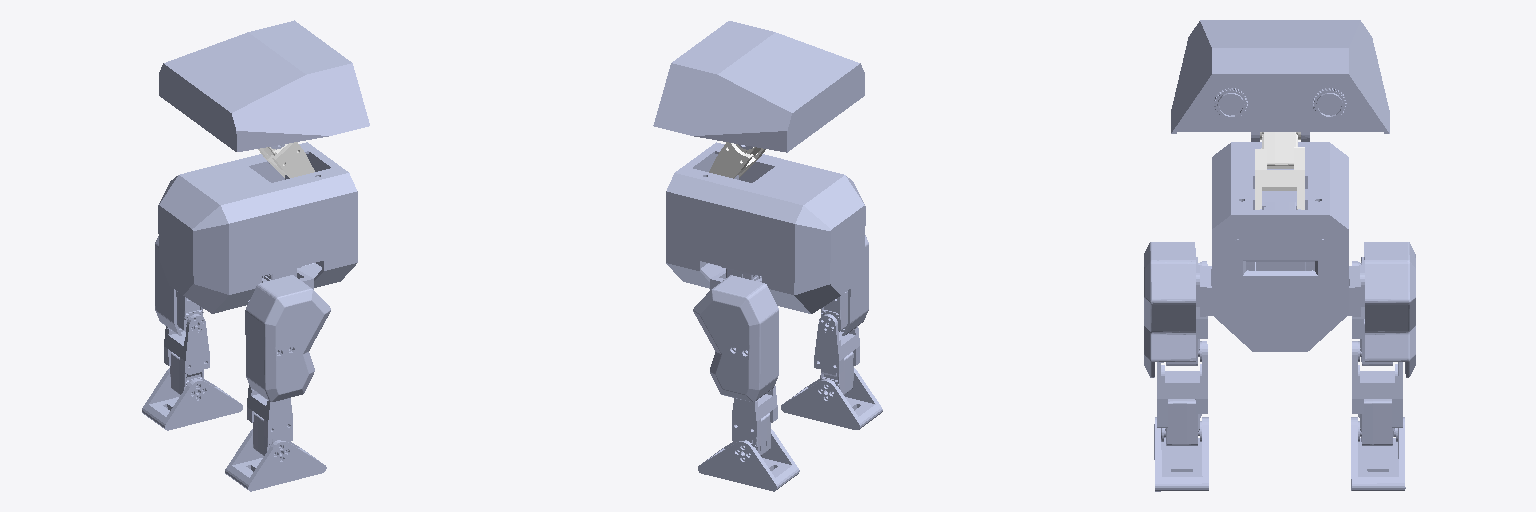
URDF robot description (full_assembly_v2):
<?xml version="1.0" encoding="utf-8"?>
<!-- This URDF was automatically created by SolidWorks to URDF Exporter! Originally created by Stephen Brawner (brawner@gmail.com) 
     Commit Version: 1.6.0-4-g7f85cfe  Build Version: 1.6.7995.38578
     For more information, please see http://wiki.ros.org/sw_urdf_exporter -->
<robot
  name="full_assembly_v2">
  <mujoco>
    <compiler balanceinertia="true" discardvisual="false" fusestatic="true"/>
  </mujoco>
  <link
    name="trunk">
    <inertial>
      <origin
        xyz="0.011456 2.2834E-05 0.0078002"
        rpy="0 0 0" />
      <mass
        value="0.65713" />
      <inertia
        ixx="0.0013735"
        ixy="-9.3006E-08"
        ixz="3.8844E-06"
        iyy="0.0013894"
        iyz="-3.9976E-07"
        izz="0.0012342" />
    </inertial>
    <visual>
      <origin
        xyz="0 0 0"
        rpy="0 0 0" />
      <geometry>
        <mesh
          filename="meshes/base_link.STL" />
      </geometry>
      <material
        name="">
        <color
          rgba="0.79216 0.81961 0.93333 1" />
      </material>
    </visual>
    <collision>
      <origin
        xyz="0 0 0"
        rpy="0 0 0" />
      <geometry>
        <mesh
          filename="meshes/base_link.STL" />
      </geometry>
    </collision>
  </link>
  <link
    name="pelvis_L">
    <inertial>
      <origin
        xyz="-0.00051582 -0.021984 -0.00011852"
        rpy="0 0 0" />
      <mass
        value="0.053919" />
      <inertia
        ixx="9.4017E-06"
        ixy="-7.6769E-09"
        ixz="-6.5375E-09"
        iyy="5.8201E-06"
        iyz="-8.8578E-10"
        izz="8.6409E-06" />
    </inertial>
    <visual>
      <origin
        xyz="0 0 0"
        rpy="0 0 0" />
      <geometry>
        <mesh
          filename="meshes/pelvis_L.STL" />
      </geometry>
      <material
        name="">
        <color
          rgba="0.79216 0.81961 0.93333 1" />
      </material>
    </visual>
    <collision>
      <origin
        xyz="0 0 0"
        rpy="0 0 0" />
      <geometry>
        <mesh
          filename="meshes/pelvis_L.STL" />
      </geometry>
    </collision>
  </link>
  <joint
    name="joint1_pelvis_L"
    type="revolute">
    <origin
      xyz="0.010165 0.039494 -0.0062436"
      rpy="1.5709 0.0087263 -3.1329" />
    <parent
      link="trunk" />
    <child
      link="pelvis_L" />
    <axis
      xyz="0 1 0" />
    <limit
      lower="-1.57"
      upper="1.57"
      effort="100"
      velocity="100" />
  </joint>
  <link
    name="hip_L">
    <inertial>
      <origin
        xyz="0.0163927399698213 -0.000174392336910641 0.0429518546966259"
        rpy="0 0 0" />
      <mass
        value="0.0761461036772166" />
      <inertia
        ixx="1.79303618869339E-05"
        ixy="-1.30271971753041E-08"
        ixz="-2.17162814947989E-06"
        iyy="2.5979426874622E-05"
        iyz="1.19431151571543E-07"
        izz="1.70542740015958E-05" />
    </inertial>
    <visual>
      <origin
        xyz="0 0 0"
        rpy="0 0 0" />
      <geometry>
        <mesh
          filename="meshes/hip_L.STL" />
      </geometry>
      <material
        name="">
        <color
          rgba="0.792156862745098 0.819607843137255 0.933333333333333 1" />
      </material>
    </visual>
    <collision>
      <origin
        xyz="0 0 0"
        rpy="0 0 0" />
      <geometry>
        <mesh
          filename="meshes/hip_L.STL" />
      </geometry>
    </collision>
  </link>
  <joint
    name="joint2_hip_L"
    type="revolute">
    <origin
      xyz="0 -0.039892 0"
      rpy="0 0 0" />
    <parent
      link="pelvis_L" />
    <child
      link="hip_L" />
    <axis
      xyz="0.99996 0 -0.0087265" />
    <limit
      lower="-1.57"
      upper="1.57"
      effort="100"
      velocity="100" />
  </joint>
  <link
    name="thigh_L">
    <inertial>
      <origin
        xyz="-0.039582 0.0051337 0.030679"
        rpy="0 0 0" />
      <mass
        value="0.13672" />
      <inertia
        ixx="6.6615E-05"
        ixy="-9.2799E-06"
        ixz="1.9375E-06"
        iyy="5.7016E-05"
        iyz="-8.7509E-08"
        izz="7.8065E-05" />
    </inertial>
    <visual>
      <origin
        xyz="0 0 0"
        rpy="0 0 0" />
      <geometry>
        <mesh
          filename="meshes/thigh_L.STL" />
      </geometry>
      <material
        name="">
        <color
          rgba="0.79216 0.81961 0.93333 1" />
      </material>
    </visual>
    <collision>
      <origin
        xyz="0 0 0"
        rpy="0 0 0" />
      <geometry>
        <mesh
          filename="meshes/thigh_L.STL" />
      </geometry>
    </collision>
  </link>
  <joint
    name="joint3_thigh_L"
    type="revolute">
    <origin
      xyz="0.041492 0 0.026426"
      rpy="0 0 1.5708" />
    <parent
      link="hip_L" />
    <child
      link="thigh_L" />
    <axis
      xyz="0 0 -1" />
    <limit
      lower="-1.57"
      upper="1.57"
      effort="100"
      velocity="100" />
  </joint>
  <link
    name="ankle_L">
    <inertial>
      <origin
        xyz="-0.051215 0.0001649 0.023463"
        rpy="0 0 0" />
      <mass
        value="0.078372" />
      <inertia
        ixx="1.464E-05"
        ixy="2.2709E-07"
        ixz="1.4742E-06"
        iyy="2.3374E-05"
        iyz="-1.273E-07"
        izz="1.755E-05" />
    </inertial>
    <visual>
      <origin
        xyz="0 0 0"
        rpy="0 0 0" />
      <geometry>
        <mesh
          filename="meshes/ankle_L.STL" />
      </geometry>
      <material
        name="">
        <color
          rgba="0.79216 0.81961 0.93333 1" />
      </material>
    </visual>
    <collision>
      <origin
        xyz="0 0 0"
        rpy="0 0 0" />
      <geometry>
        <mesh
          filename="meshes/ankle_L.STL" />
      </geometry>
    </collision>
  </link>
  <joint
    name="joint4_ankle_L"
    type="revolute">
    <origin
      xyz="-0.08 0 0"
      rpy="0 0 0" />
    <parent
      link="thigh_L" />
    <child
      link="ankle_L" />
    <axis
      xyz="0 0 -1" />
    <limit
      lower="-1.57"
      upper="1.57"
      effort="100"
      velocity="100" />
  </joint>
  <link
    name="left_foot">
    <inertial>
      <origin
        xyz="0.00575759314533464 0.0248407158750362 0.0235411402775715"
        rpy="0 0 0" />
      <mass
        value="0.0777097222802102" />
      <inertia
        ixx="2.96195805200131E-05"
        ixy="-1.1005382011947E-06"
        ixz="-1.77474641411088E-08"
        iyy="7.15756259940461E-05"
        iyz="-4.7488555713904E-08"
        izz="5.79961491525299E-05" />
    </inertial>
    <visual>
      <origin
        xyz="0 0 0"
        rpy="0 0 0" />
      <geometry>
        <mesh
          filename="meshes/foot_L.STL" />
      </geometry>
      <material
        name="">
        <color
          rgba="0.792156862745098 0.819607843137255 0.933333333333333 1" />
      </material>
    </visual>
    <collision>
      <origin
        xyz="0 0 0"
        rpy="0 0 0" />
      <geometry>
        <mesh
          filename="meshes/foot_L.STL" />
      </geometry>
    </collision>
  </link>
  <joint
    name="joint5_foot_L"
    type="revolute">
    <origin
      xyz="-0.08 0 0"
      rpy="0 0 1.5708" />
    <parent
      link="ankle_L" />
    <child
      link="left_foot" />
    <axis
      xyz="0 0 -1" />
    <limit
      lower="-1.57"
      upper="1.57"
      effort="100"
      velocity="100" />
  </joint>
  <link
    name="pelvis_R">
    <inertial>
      <origin
        xyz="-0.000513725146185577 -0.0219835311477533 -0.00012164668284867"
        rpy="0 0 0" />
      <mass
        value="0.0539188863508412" />
      <inertia
        ixx="9.40174177868185E-06"
        ixy="-7.65828813517135E-09"
        ixz="5.78340802028493E-09"
        iyy="5.82011195489403E-06"
        iyz="-1.24427447114031E-09"
        izz="8.64086674676144E-06" />
    </inertial>
    <visual>
      <origin
        xyz="0 0 0"
        rpy="0 0 0" />
      <geometry>
        <mesh
          filename="meshes/pelvis_R.STL" />
      </geometry>
      <material
        name="">
        <color
          rgba="0.792156862745098 0.819607843137255 0.933333333333333 1" />
      </material>
    </visual>
    <collision>
      <origin
        xyz="0 0 0"
        rpy="0 0 0" />
      <geometry>
        <mesh
          filename="meshes/pelvis_R.STL" />
      </geometry>
    </collision>
  </link>
  <joint
    name="joint6_pelvis_R"
    type="revolute">
    <origin
      xyz="0.0094731 -0.039779 -0.0062496"
      rpy="1.5709 0.0087263 -3.1329" />
    <parent
      link="trunk" />
    <child
      link="pelvis_R" />
    <axis
      xyz="0 1 0" />
    <limit
      lower="-1.57"
      upper="1.57"
      effort="100"
      velocity="100" />
  </joint>
  <link
    name="hip_R">
    <inertial>
      <origin
        xyz="0.0163927363148579 -4.32063890797724E-06 -0.0429518549876043"
        rpy="0 0 0" />
      <mass
        value="0.0761461119364861" />
      <inertia
        ixx="1.79303673794197E-05"
        ixy="-1.51537324429809E-08"
        ixz="2.17162593139543E-06"
        iyy="2.5979426702273E-05"
        iyz="-1.18672358329129E-07"
        izz="1.70542754446113E-05" />
    </inertial>
    <visual>
      <origin
        xyz="0 0 0"
        rpy="0 0 0" />
      <geometry>
        <mesh
          filename="meshes/hip_R.STL" />
      </geometry>
      <material
        name="">
        <color
          rgba="0.792156862745098 0.819607843137255 0.933333333333333 1" />
      </material>
    </visual>
    <collision>
      <origin
        xyz="0 0 0"
        rpy="0 0 0" />
      <geometry>
        <mesh
          filename="meshes/hip_R.STL" />
      </geometry>
    </collision>
  </link>
  <joint
    name="joint7_hip_R"
    type="revolute">
    <origin
      xyz="0 -0.039892 0"
      rpy="0 0 0" />
    <parent
      link="pelvis_R" />
    <child
      link="hip_R" />
    <axis
      xyz="0.99996 0 0.0087265" />
    <limit
      lower="-1.57"
      upper="1.57"
      effort="100"
      velocity="100" />
  </joint>
  <link
    name="thigh_R">
    <inertial>
      <origin
        xyz="-0.00503057540581958 -0.0395824759860945 -0.0306785081430185"
        rpy="0 0 0" />
      <mass
        value="0.136722260919114" />
      <inertia
        ixx="5.70155594467738E-05"
        ixy="9.28204907466827E-06"
        ixz="-8.67564836835474E-08"
        iyy="6.66154112931462E-05"
        iyz="-1.93749776113662E-06"
        izz="7.80651317207028E-05" />
    </inertial>
    <visual>
      <origin
        xyz="0 0 0"
        rpy="0 0 0" />
      <geometry>
        <mesh
          filename="meshes/thigh_R.STL" />
      </geometry>
      <material
        name="">
        <color
          rgba="0.792156862745098 0.819607843137255 0.933333333333333 1" />
      </material>
    </visual>
    <collision>
      <origin
        xyz="0 0 0"
        rpy="0 0 0" />
      <geometry>
        <mesh
          filename="meshes/thigh_R.STL" />
      </geometry>
    </collision>
  </link>
  <joint
    name="joint8_thigh_R"
    type="revolute">
    <origin
      xyz="0.041492 0 -0.026426"
      rpy="0 0 0" />
    <parent
      link="hip_R" />
    <child
      link="thigh_R" />
    <axis
      xyz="0 0 1" />
    <limit
      lower="-1.57"
      upper="1.57"
      effort="100"
      velocity="100" />
  </joint>
  <link
    name="ankle_R">
    <inertial>
      <origin
        xyz="-0.0481279468592293 -0.0175117923902426 -0.0234633981494803"
        rpy="0 0 0" />
      <mass
        value="0.0783721207299688" />
      <inertia
        ixx="1.55160733772599E-05"
        ixy="-2.63405090607131E-06"
        ixz="-1.42859357986916E-06"
        iyy="2.24971607501335E-05"
        iyz="-3.85133412301832E-07"
        izz="1.75499317134926E-05" />
    </inertial>
    <visual>
      <origin
        xyz="0 0 0"
        rpy="0 0 0" />
      <geometry>
        <mesh
          filename="meshes/ankle_R.STL" />
      </geometry>
      <material
        name="">
        <color
          rgba="0.792156862745098 0.819607843137255 0.933333333333333 1" />
      </material>
    </visual>
    <collision>
      <origin
        xyz="0 0 0"
        rpy="0 0 0" />
      <geometry>
        <mesh
          filename="meshes/ankle_R.STL" />
      </geometry>
    </collision>
  </link>
  <joint
    name="joint9_ankle_R"
    type="revolute">
    <origin
      xyz="0 -0.08 0"
      rpy="0 0 1.2218" />
    <parent
      link="thigh_R" />
    <child
      link="ankle_R" />
    <axis
      xyz="0 0 1" />
    <limit
      lower="-1.57"
      upper="1.57"
      effort="100"
      velocity="100" />
  </joint>
  <link
    name="right_foot">
    <inertial>
      <origin
        xyz="0.00575759314533462 0.0248407158750362 -0.0235812551843606"
        rpy="0 0 0" />
      <mass
        value="0.0777097222802102" />
      <inertia
        ixx="2.9619580520013E-05"
        ixy="-1.10053820119469E-06"
        ixz="-1.77474641411644E-08"
        iyy="7.1575625994046E-05"
        iyz="-4.7488555713912E-08"
        izz="5.79961491525299E-05" />
    </inertial>
    <visual>
      <origin
        xyz="0 0 0"
        rpy="0 0 0" />
      <geometry>
        <mesh
          filename="meshes/foot_R.STL" />
      </geometry>
      <material
        name="">
        <color
          rgba="0.792156862745098 0.819607843137255 0.933333333333333 1" />
      </material>
    </visual>
    <collision>
      <origin
        xyz="0 0 0"
        rpy="0 0 0" />
      <geometry>
        <mesh
          filename="meshes/foot_R.STL" />
      </geometry>
    </collision>
  </link>
  <joint
    name="joint10_foot_R"
    type="revolute">
    <origin
      xyz="-0.075175 -0.027362 0"
      rpy="0 0 1.9198" />
    <parent
      link="ankle_R" />
    <child
      link="right_foot" />
    <axis
      xyz="0 0 1" />
    <limit
      lower="-1.57"
      upper="1.57"
      effort="100"
      velocity="100" />
  </joint>
  <link
    name="neck">
    <inertial>
      <origin
        xyz="0 0 0"
        rpy="0 0 0" />
      <mass
        value="0" />
      <inertia
        ixx="0"
        ixy="0"
        ixz="0"
        iyy="0"
        iyz="0"
        izz="0" />
    </inertial>
    <visual>
      <origin
        xyz="0 0 0"
        rpy="0 0 0" />
      <geometry>
        <mesh
          filename="meshes/neck.STL" />
      </geometry>
      <material
        name="">
        <color
          rgba="1 1 1 1" />
      </material>
    </visual>
    <collision>
      <origin
        xyz="0 0 0"
        rpy="0 0 0" />
      <geometry>
        <mesh
          filename="meshes/neck.STL" />
      </geometry>
    </collision>
  </link>
  <joint
    name="joint11_neck"
    type="fixed">
    <origin
      xyz="0.060903 0 0.052819"
      rpy="1.5682 0.28791 3.1325" />
    <parent
      link="trunk" />
    <child
      link="neck" />
    <axis
      xyz="0.0087265 0 0.99996" />
    <limit
      lower="0"
      upper="0"
      effort="0"
      velocity="0" />
  </joint>
  <link
    name="head">
    <inertial>
      <origin
        xyz="0.00466401927795566 0.0533829385889307 -4.07022796095474E-05"
        rpy="0 0 0" />
      <mass
        value="1.36622143003977" />
      <inertia
        ixx="0.00352706153202255"
        ixy="0.000126023204305323"
        ixz="-5.56806778660587E-06"
        iyy="0.00567911515594764"
        iyz="-1.09978784254137E-06"
        izz="0.0028890727523189" />
    </inertial>
    <visual>
      <origin
        xyz="0 0 0"
        rpy="0 0 0" />
      <geometry>
        <mesh
          filename="meshes/head.STL" />
      </geometry>
      <material
        name="">
        <color
          rgba="0.792156862745098 0.819607843137255 0.933333333333333 1" />
      </material>
    </visual>
    <collision>
      <origin
        xyz="0 0 0"
        rpy="0 0 0" />
      <geometry>
        <mesh
          filename="meshes/head.STL" />
      </geometry>
    </collision>
  </link>
  <joint
    name="joint12_head"
    type="fixed">
    <origin
      xyz="0.022822 0.076675 -0.00019917"
      rpy="0.0024049 -0.0003379 0.27918" />
    <parent
      link="neck" />
    <child
      link="head" />
    <axis
      xyz="0.0087265 0 0.99996" />
    <limit
      lower="0"
      upper="0"
      effort="0"
      velocity="0" />
  </joint>
</robot>

--- Facts derived from the render (not from the file) ---
Views: 3 orthographic renders of the robot side by side, from view 1: azimuth 30°, elevation 25°; view 2: azimuth 150°, elevation 25°; view 3: azimuth 270°, elevation 25°.
Model full_assembly_v2 with 13 links and 12 joints (10 revolute, 2 fixed), rooted at trunk, posed every joint at zero.
Links seen in each view (by area): view 1: trunk, head, thigh_R, left_foot, right_foot, ankle_L, ankle_R, thigh_L, neck; view 2: trunk, head, thigh_L, right_foot, left_foot, ankle_R, ankle_L, thigh_R, neck; view 3: trunk, head, thigh_R, thigh_L, ankle_R, ankle_L, neck, right_foot, left_foot, hip_L, hip_R.
Link boxes in pixels (x1,y1,x2,y2): trunk: (158,142,357,313); head: (159,20,369,151); thigh_R: (245,275,330,401); left_foot: (142,368,242,430); right_foot: (225,429,326,491); ankle_L: (164,314,209,394); ankle_R: (247,385,292,455); thigh_L: (155,236,203,335); neck: (258,142,314,177); trunk: (666,142,865,313); head: (653,21,864,152); thigh_L: (693,275,778,401); right_foot: (781,368,882,429); left_foot: (698,429,799,491); ankle_R: (814,314,859,394); ankle_L: (732,386,777,455); thigh_R: (821,235,868,335); neck: (709,142,765,178); trunk: (1212,142,1348,351); head: (1171,20,1389,141); thigh_R: (1144,242,1207,377); thigh_L: (1352,242,1415,377); ankle_R: (1157,341,1207,445); ankle_L: (1352,341,1402,445); neck: (1255,132,1304,209); right_foot: (1154,417,1208,491); left_foot: (1351,417,1405,490); hip_L: (1348,257,1364,316); hip_R: (1196,257,1212,316).
Size in the robot's own frame: 0.1914 by 0.2486 by 0.4516 metres.
Meshes: 13 distinct files referenced, 13 mesh visuals loaded (13 binary STL).
